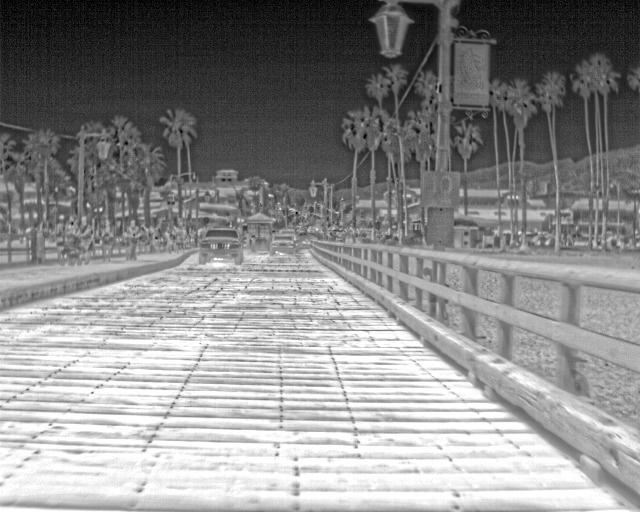bicycle: (196, 223, 243, 262), (267, 229, 299, 255)
empty: (73, 213, 94, 265), (51, 213, 68, 263), (122, 216, 141, 260), (98, 216, 113, 262), (113, 216, 125, 258)
